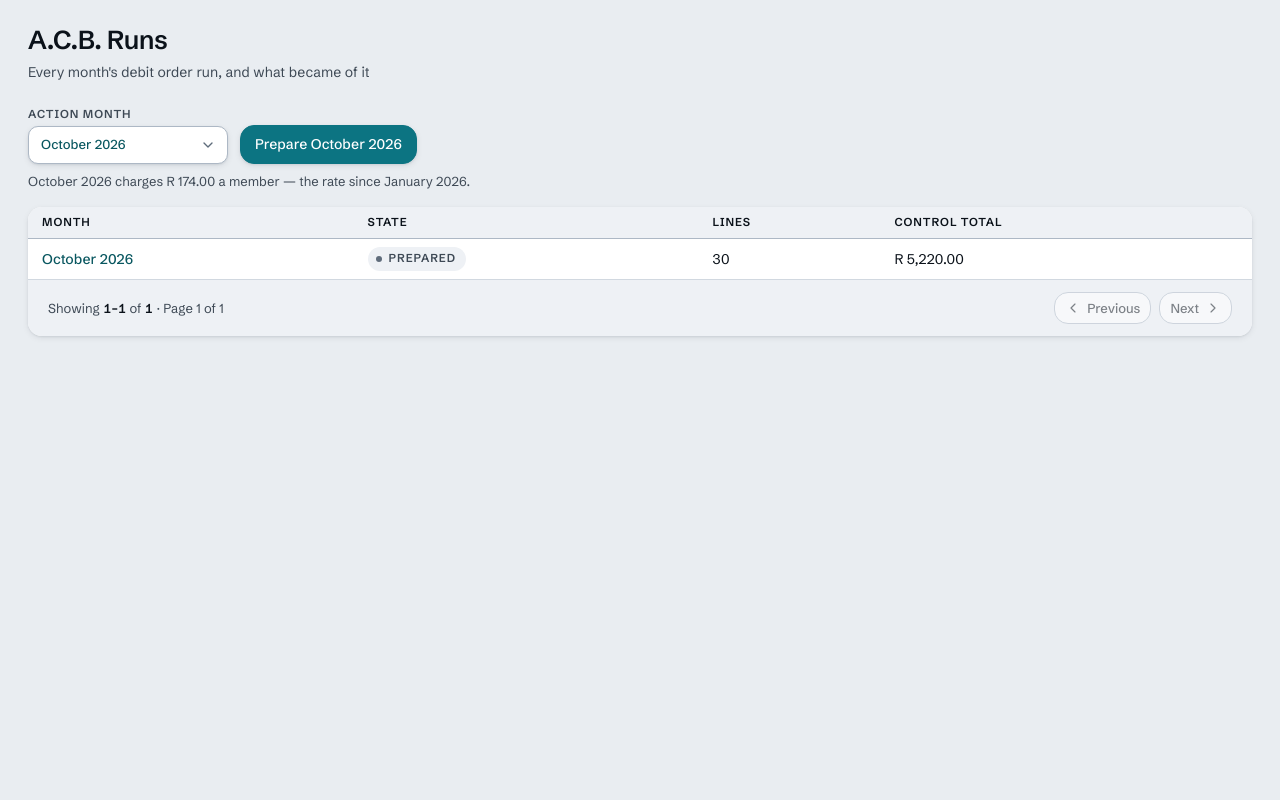
Test: preparing a run › one POST, then the run is re-read until it settles, and the screen says what it holds
The image size is (1280, 800).
Click the button "Prepare October 2026". click: (328, 145)
box: [240,125,417,164]
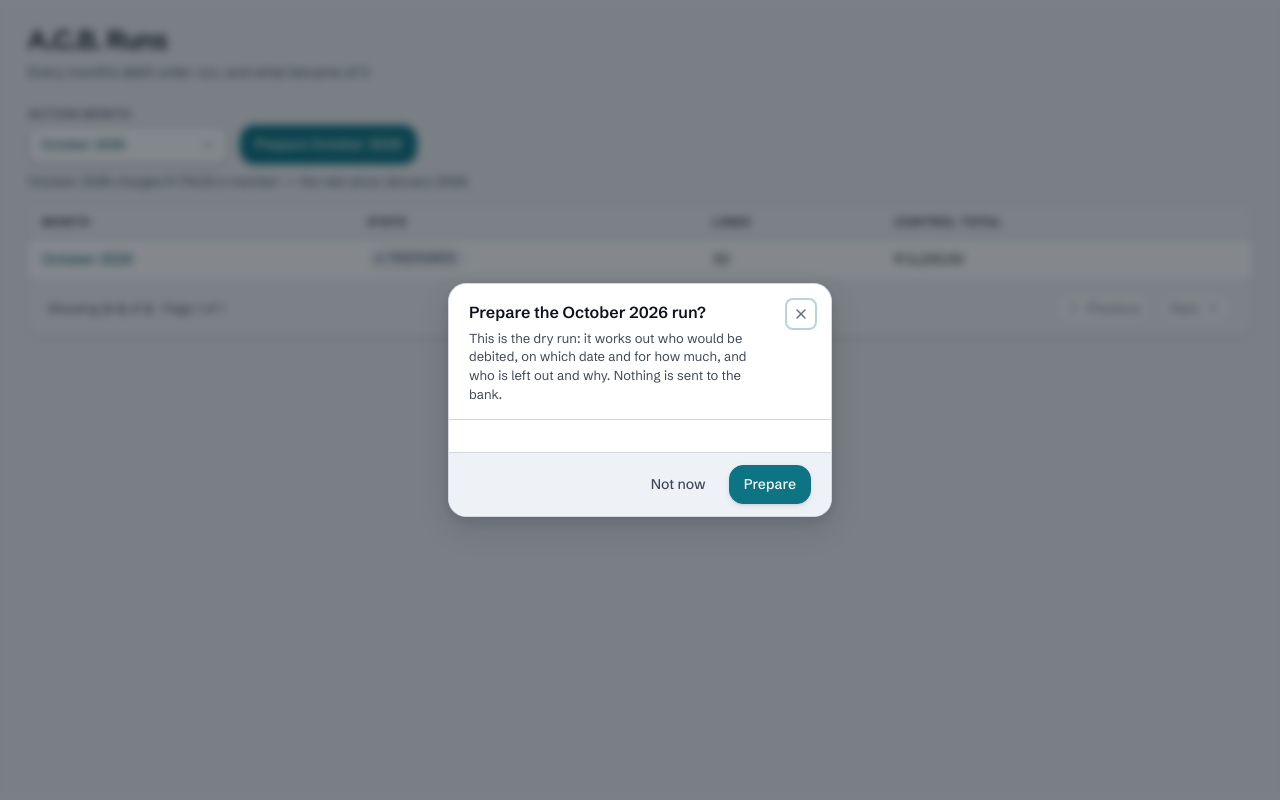
Click the button "Prepare". click: (770, 485)
box: [729,465,811,504]
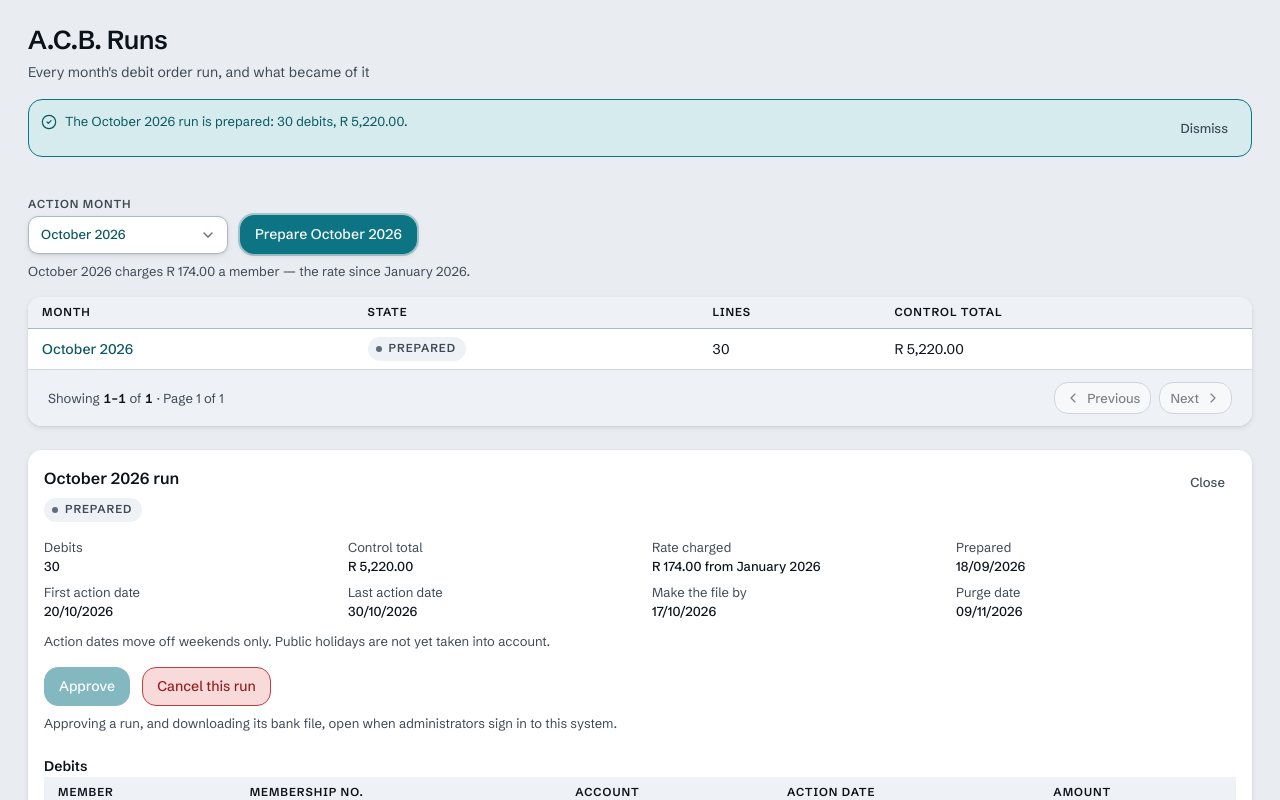
expect the text "The October 2026 run is prepared: 30 debits, R 5,220.00." is shown: met, box [65,113,408,129]
